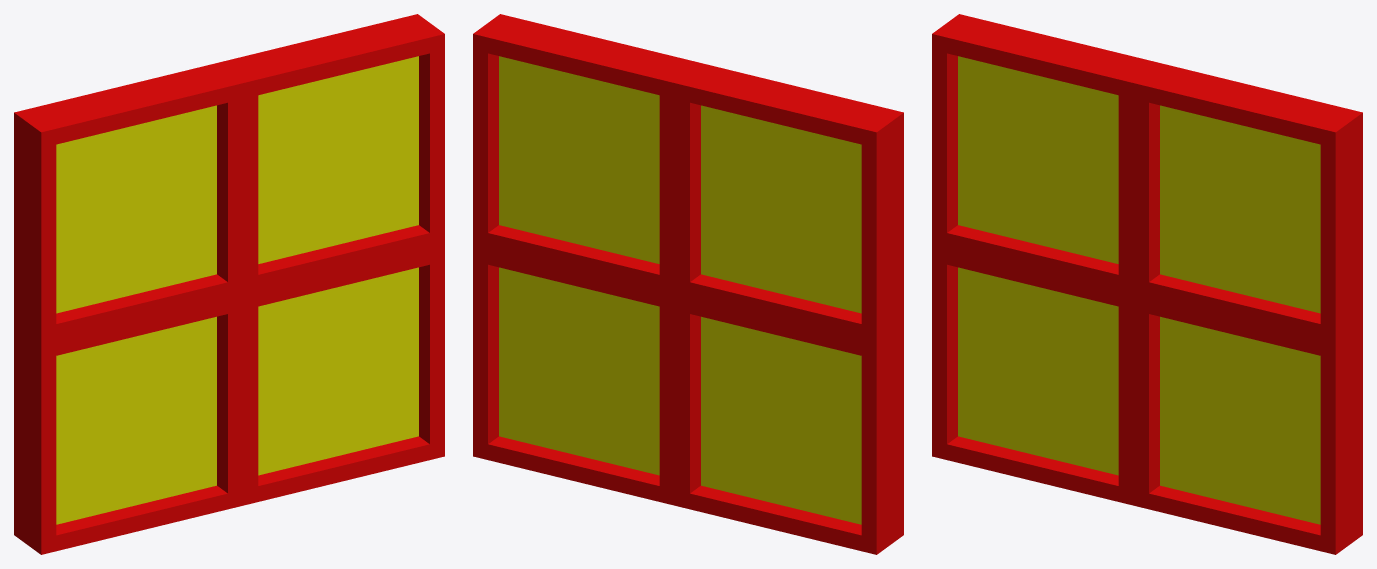
File: window_low.fbx
3 renders of one model, left to right at view 1: azimuth 30°, elevation 25°; view 2: azimuth 150°, elevation 25°; view 3: azimuth 330°, elevation 25°, orthographic.
Parts seen in each view (by area): view 1: window_low; view 2: window_low; view 3: window_low.
Part boxes in pixels (x1=…): window_low: x1=14, y1=14, x2=444, y2=554; window_low: x1=473, y1=14, x2=903, y2=554; window_low: x1=932, y1=14, x2=1362, y2=554.
Bounding box in the file's own units: 300 × 300 × 35.
